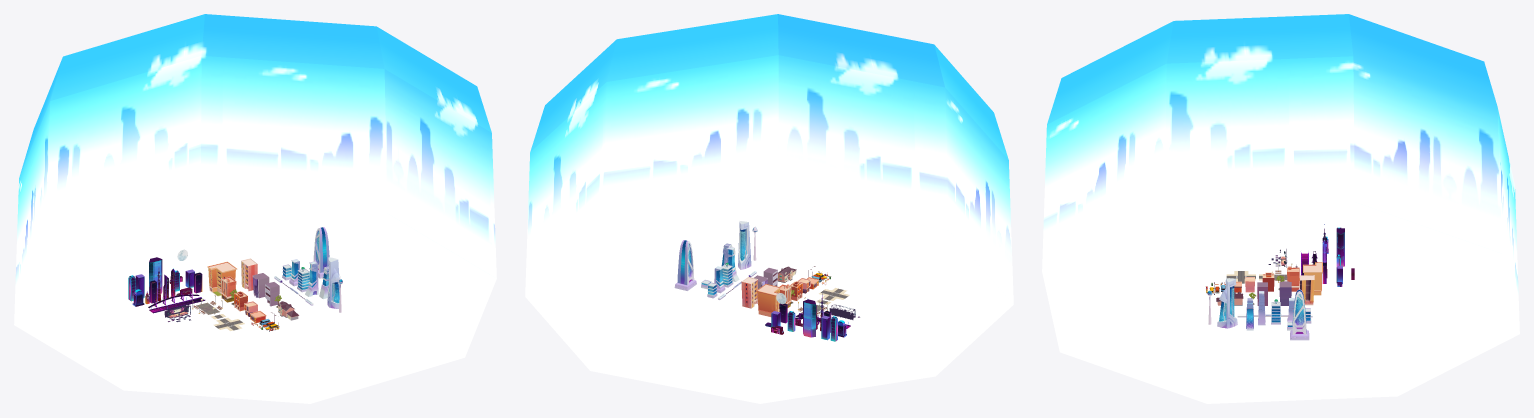
Rendered from lowpoly_city_street_pack_buildings_stylized.glb.
3 renders of one model, left to right at view 1: azimuth 30°, elevation 25°; view 2: azimuth 150°, elevation 25°; view 3: azimuth 270°, elevation 25°, orthographic. The views are drawn at different scales.
Parts seen in each view (by area): view 1: Sphere, Cube.043, Cube, Cube.099, Cube.027; view 2: Sphere, Cube.043, Cube, Cube.099, Cube.034, Cube.027; view 3: Sphere, Cube.099, Cube.043.
Part boxes in pixels (bbox=[...]): Sphere: bbox=[14, 14, 496, 403]; Cube.043: bbox=[313, 227, 329, 278]; Cube: bbox=[207, 261, 237, 296]; Cube.099: bbox=[327, 257, 339, 308]; Cube.027: bbox=[241, 258, 257, 291]; Sphere: bbox=[525, 14, 1013, 403]; Cube.043: bbox=[674, 240, 696, 290]; Cube: bbox=[756, 284, 780, 316]; Cube.099: bbox=[738, 221, 751, 269]; Cube.034: bbox=[803, 299, 815, 337]; Cube.027: bbox=[741, 277, 757, 308]; Sphere: bbox=[1042, 14, 1519, 403]; Cube.099: bbox=[1217, 278, 1237, 328]; Cube.043: bbox=[1290, 289, 1309, 340].
Size of what is drawn, in the model's own units: 42500 by 20957 by 42500.
Materials: 58 (51 with a texture image).
